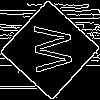W: (25, 25, 72, 74)
